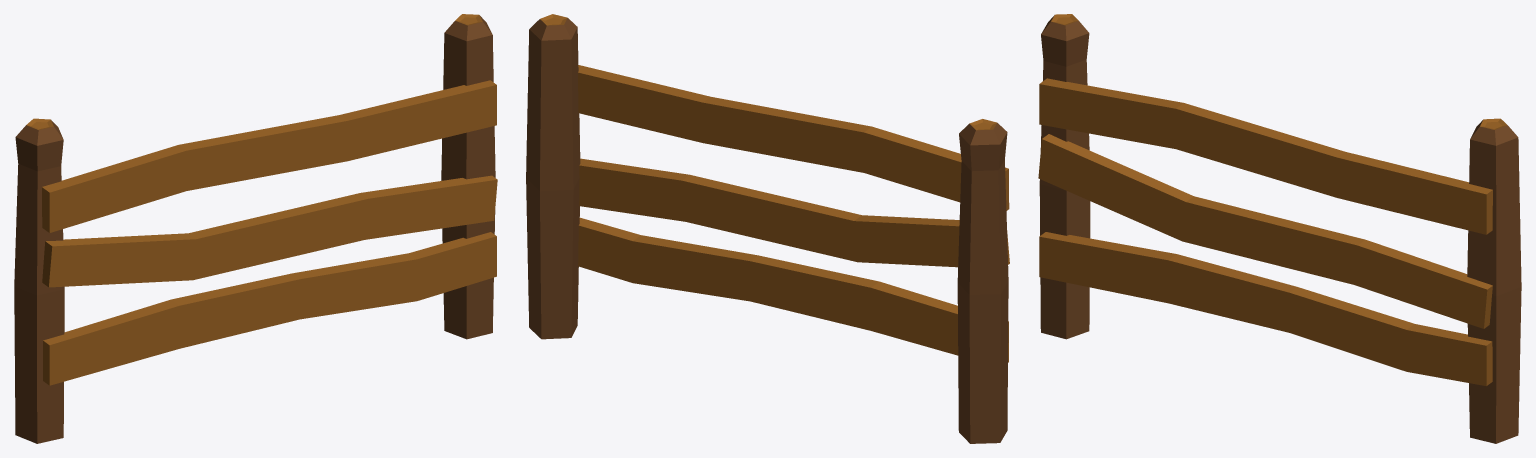
The model's file is Fence2.fbx.
3 renders of one model, left to right at view 1: azimuth 30°, elevation 25°; view 2: azimuth 150°, elevation 25°; view 3: azimuth 330°, elevation 25°, orthographic.
Visible parts, largest first — view 1: Cube, Cube.002, Cube.001, Cylinder.001, Cylinder.000; view 2: Cube, Cube.002, Cube.001, Cylinder.000, Cylinder.001; view 3: Cube, Cube.001, Cube.002, Cylinder.000, Cylinder.001.
Boxes of the visible parts, x1,y1,x2,y2 form: Cube: (43, 232, 496, 385); Cube.002: (42, 80, 496, 232); Cube.001: (42, 175, 497, 287); Cylinder.001: (14, 118, 64, 443); Cylinder.000: (441, 14, 495, 339); Cube: (578, 217, 1008, 362); Cube.002: (578, 65, 1009, 210); Cube.001: (579, 158, 1009, 267); Cylinder.000: (526, 14, 580, 339); Cylinder.001: (957, 119, 1008, 443); Cube: (1039, 232, 1492, 386); Cube.001: (1038, 134, 1492, 328); Cube.002: (1039, 78, 1492, 234); Cylinder.000: (1467, 118, 1521, 443); Cylinder.001: (1039, 14, 1090, 339).
Bounding box in the file's own units: 369 × 230 × 42.86.
